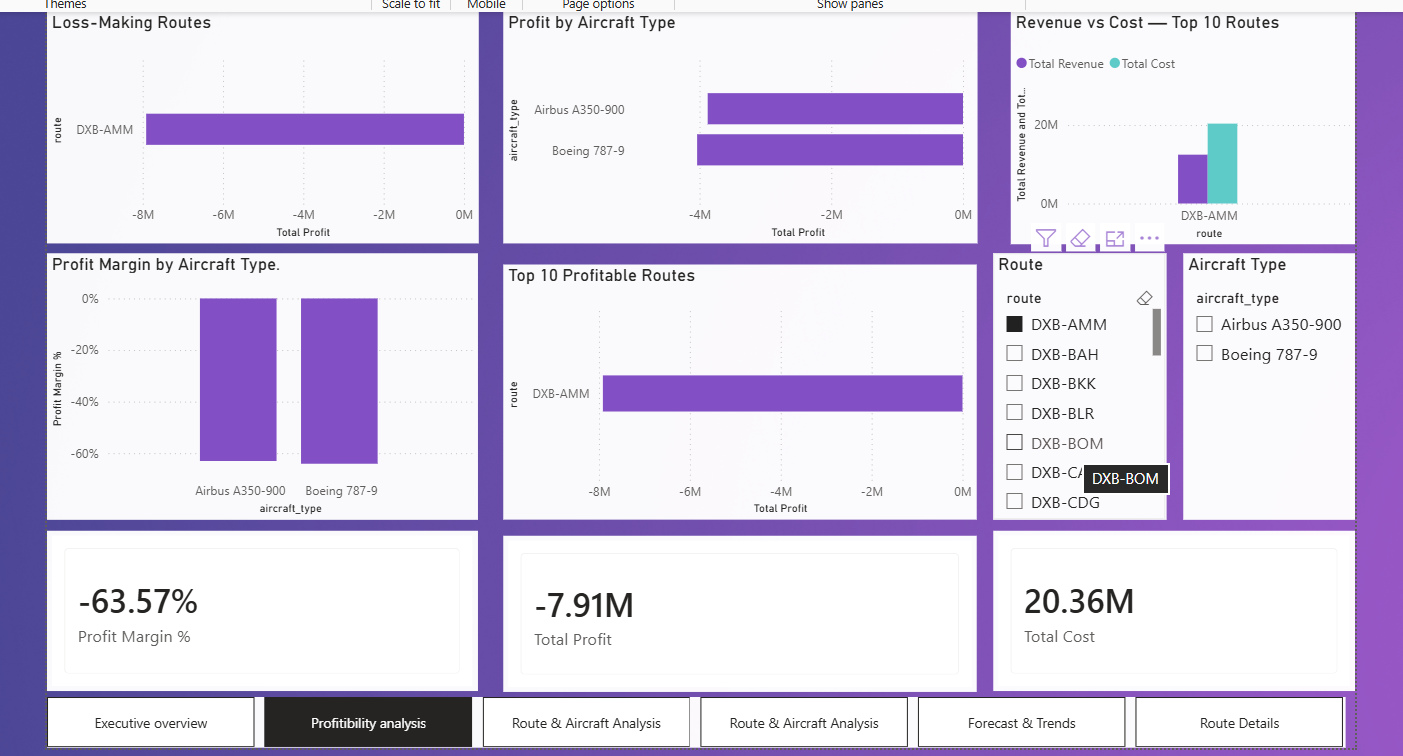

The dashboard page shown, as its layout file describes it:
{"tool":"powerbi","page":{"name":"Profitibility analysis","canvas":[1280,720],"ordinal":1},"visuals":[{"type":"cardVisual","fields":{"Data":["Airline Data.Total Profit"]},"box":[446,511.8,463.5,153.1],"z":0},{"type":"cardVisual","fields":{"Data":["Airline Data.Total Cost"]},"box":[925.6,507.8,354.7,157.2],"z":1000},{"type":"cardVisual","fields":{"Data":["Airline Data.Profit Margin %"]},"box":[0,507.8,421.8,157.2],"z":2000},{"type":"clusteredBarChart","title":"Top 10 Profitable Routes","fields":{"Category":["Airline Data.route"],"Y":["Airline Data.Total Profit"]},"box":[446,247.2,463.5,249.9],"z":3000},{"type":"clusteredBarChart","title":"Loss-Making Routes","fields":{"Category":["Airline Data.route"],"Y":["Airline Data.Total Profit"]},"box":[0,0,422.1,226.7],"z":4000},{"type":"clusteredColumnChart","title":"Revenue vs Cost — Top 10 Routes","fields":{"Category":["Airline Data.route"],"Y":["Airline Data.Total Revenue","Airline Data.Total Cost"]},"box":[943.1,0,337.1,227.1],"z":5000},{"type":"clusteredBarChart","title":"Profit by Aircraft Type","fields":{"Category":["Airline Data.aircraft_type"],"Y":["Airline Data.Total Profit"]},"box":[446,0,464,226.7],"z":6000},{"type":"clusteredColumnChart","title":"Profit Margin by Aircraft Type.","fields":{"Y":["Airline Data.Profit Margin %"],"Category":["Airline Data.aircraft_type"]},"box":[0,236.4,421.8,260.6],"z":7000},{"type":"slicer","title":"Route","fields":{"Values":["Airline Data.route"]},"box":[925.6,236.4,169.3,260.6],"z":8000},{"type":"slicer","title":"Aircraft Type","fields":{"Values":["Airline Data.aircraft_type"]},"box":[1111,236.4,169.3,260.6],"z":9000},{"type":"pageNavigator","box":[0,670.6,1270.7,49.4],"z":10000}]}

Visuals, with their boxes in screenshot pixels (x1, y1, x2, y2):
cardVisual - Airline Data.Total Profit: (left=499, top=530, right=979, bottom=689)
cardVisual - Airline Data.Total Cost: (left=995, top=526, right=1363, bottom=689)
cardVisual - Airline Data.Profit Margin %: (left=37, top=526, right=473, bottom=689)
"Top 10 Profitable Routes" clusteredBarChart: (left=499, top=256, right=979, bottom=515)
"Loss-Making Routes" clusteredBarChart: (left=37, top=0, right=474, bottom=235)
"Revenue vs Cost — Top 10 Routes" clusteredColumnChart: (left=1013, top=0, right=1363, bottom=235)
"Profit by Aircraft Type" clusteredBarChart: (left=499, top=0, right=979, bottom=235)
"Profit Margin by Aircraft Type." clusteredColumnChart: (left=37, top=245, right=473, bottom=515)
"Route" slicer: (left=995, top=245, right=1171, bottom=515)
"Aircraft Type" slicer: (left=1187, top=245, right=1363, bottom=515)
pageNavigator: (left=37, top=695, right=1353, bottom=746)
